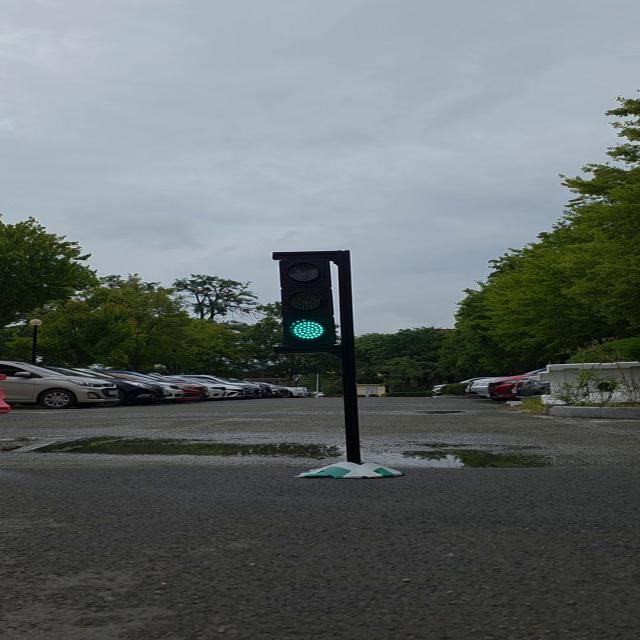green: (278, 251, 340, 354)
